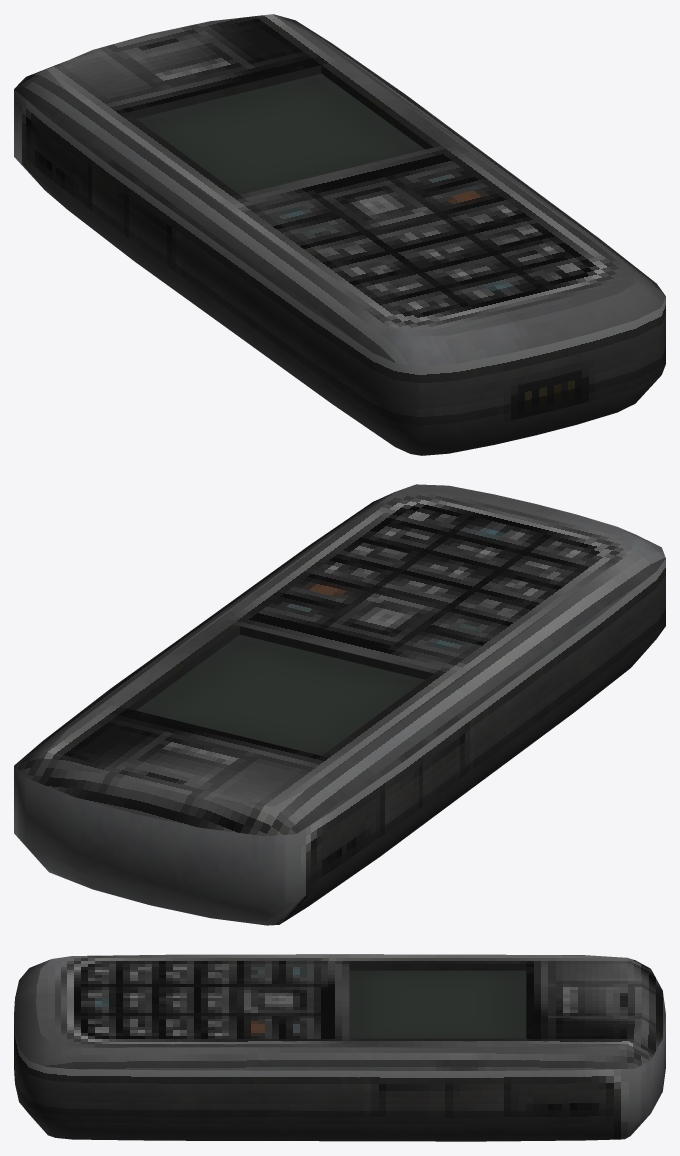
Rendered from cell_phone_3.glb.
3 views of the same model, one above another, from view 1: azimuth 30°, elevation 25°; view 2: azimuth 150°, elevation 25°; view 3: azimuth 270°, elevation 25° (orthographic). The views are drawn at different scales.
Visible parts, largest first — view 1: cell_phone_3; view 2: cell_phone_3; view 3: cell_phone_3.
Part boxes in pixels (x1,y1,x2,y2): cell_phone_3: (14,14,665,455); cell_phone_3: (14,484,665,925); cell_phone_3: (14,954,665,1141).
Bounding box in the file's own units: 0.0912 × 0.035 × 0.2222.
Materials: 1 (1 with a texture image).
